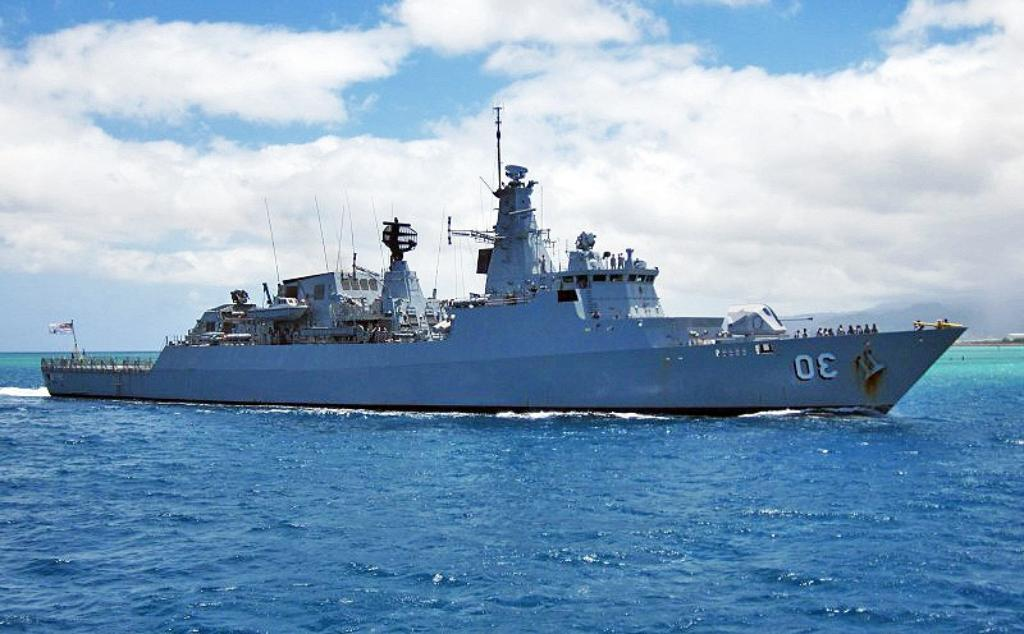Warship: (29, 98, 967, 428)
